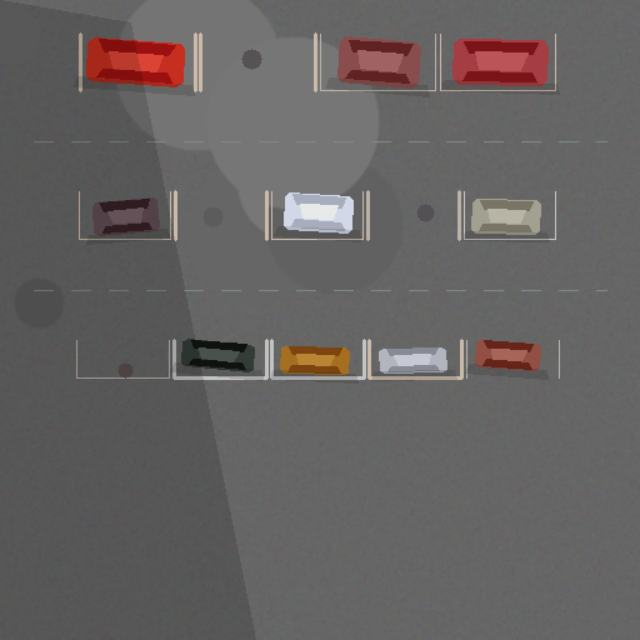space-empty: (200, 34, 315, 90), (175, 191, 266, 239), (368, 191, 459, 239), (76, 340, 169, 378)
space-occupied: (80, 34, 195, 90), (320, 34, 435, 90), (440, 34, 555, 90), (79, 191, 170, 239), (271, 191, 362, 239), (464, 191, 555, 239), (271, 340, 364, 378), (466, 340, 559, 378), (174, 340, 266, 378), (369, 340, 461, 378)
